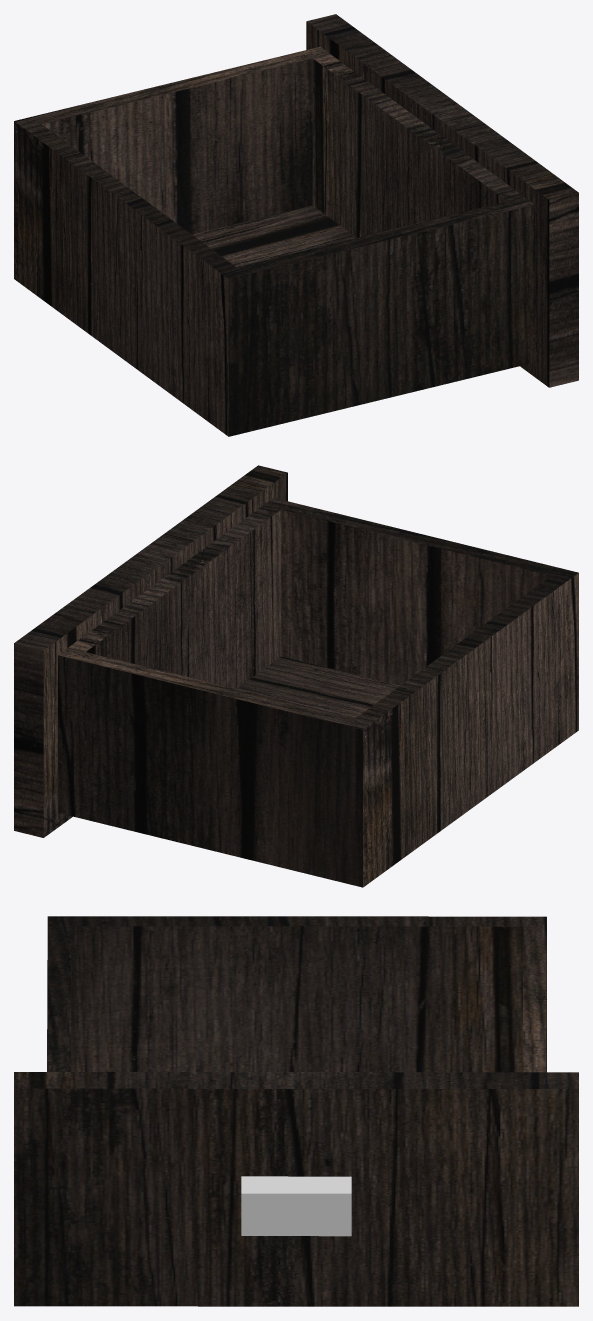
Rendered from CubicalDrawers.fbx.
3 renders of one model, top to bottom at view 1: azimuth 30°, elevation 25°; view 2: azimuth 150°, elevation 25°; view 3: azimuth 270°, elevation 25°, orthographic. The views are drawn at different scales.
Visible parts, largest first — view 1: CubicalDrawer; view 2: CubicalDrawer; view 3: CubicalDrawer.
Boxes of the visible parts, x1,y1,x2,y2 form: CubicalDrawer: (14, 14, 578, 436); CubicalDrawer: (14, 465, 578, 887); CubicalDrawer: (14, 916, 578, 1306).
Size of the model in its own units: 40.26 by 19.71 by 46.38.
